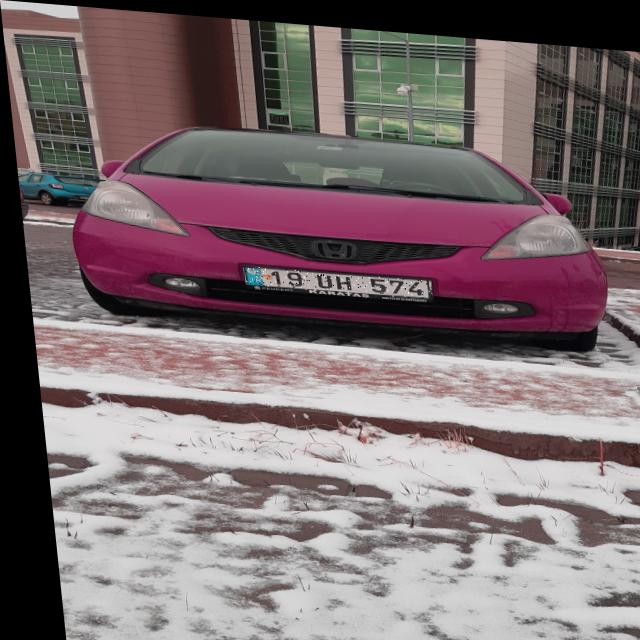license_plate: (238, 262, 426, 293)
